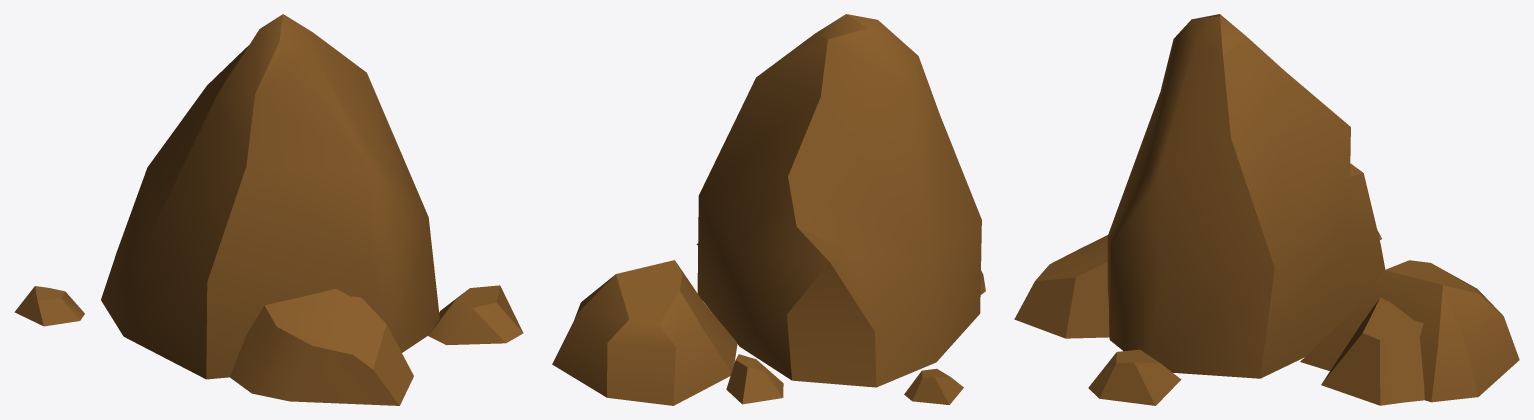
File: Rocks02.fbx
The picture shows the model from 3 angles, left to right: view 1: azimuth 30°, elevation 25°; view 2: azimuth 150°, elevation 25°; view 3: azimuth 270°, elevation 25°; orthographic projection. The views are drawn at different scales.
Visible parts, largest first — view 1: Rocks02; view 2: Rocks02; view 3: Rocks02.
Part boxes in pixels (x1,y1,x2,y2): Rocks02: (14,14,523,405); Rocks02: (552,14,985,405); Rocks02: (1014,14,1519,405).
Size of the model in its own units: 443 by 350 by 531.
